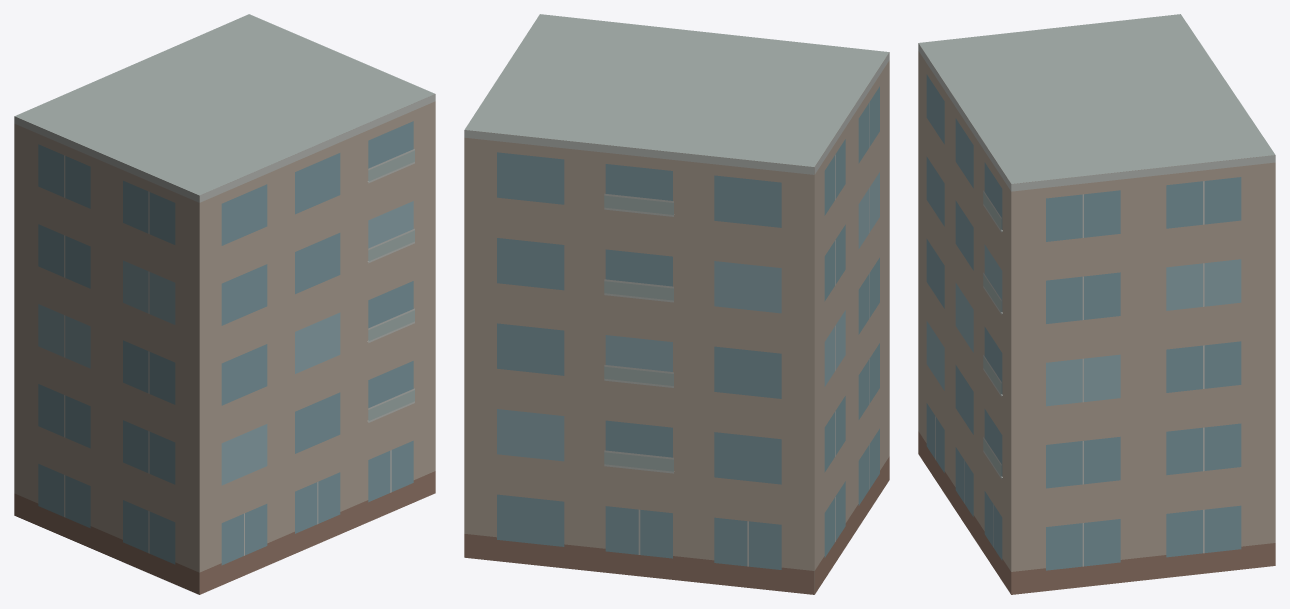
The model's file is survey-upis-33044788.glb.
The picture shows the model from 3 angles, left to right: view 1: azimuth 30°, elevation 25°; view 2: azimuth 150°, elevation 25°; view 3: azimuth 270°, elevation 25°; orthographic projection. The views are drawn at different scales.
Parts seen in each view (by area): view 1: survey-upis-33044788.tmp; view 2: survey-upis-33044788.tmp; view 3: survey-upis-33044788.tmp.
Boxes of the visible parts, x1,y1,x2,y2 form: survey-upis-33044788.tmp: (14,14,435,594); survey-upis-33044788.tmp: (464,14,889,594); survey-upis-33044788.tmp: (918,14,1275,594).
Size of the model in its own units: 11.82 by 13.3 by 10.49.
